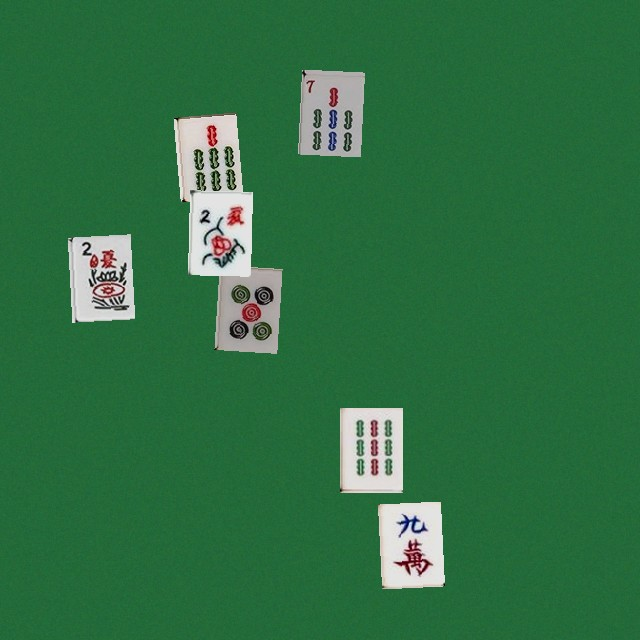tile: (214, 265, 277, 350), (377, 501, 440, 586), (339, 407, 402, 492), (297, 69, 360, 154), (173, 112, 236, 197), (67, 234, 130, 319), (187, 190, 250, 275)
